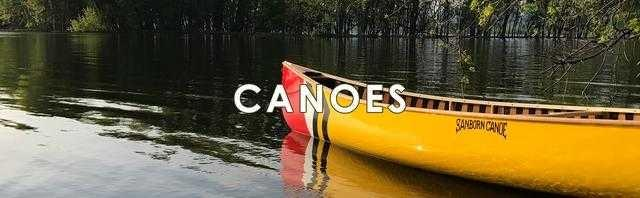kayak: (271, 59, 639, 195)
